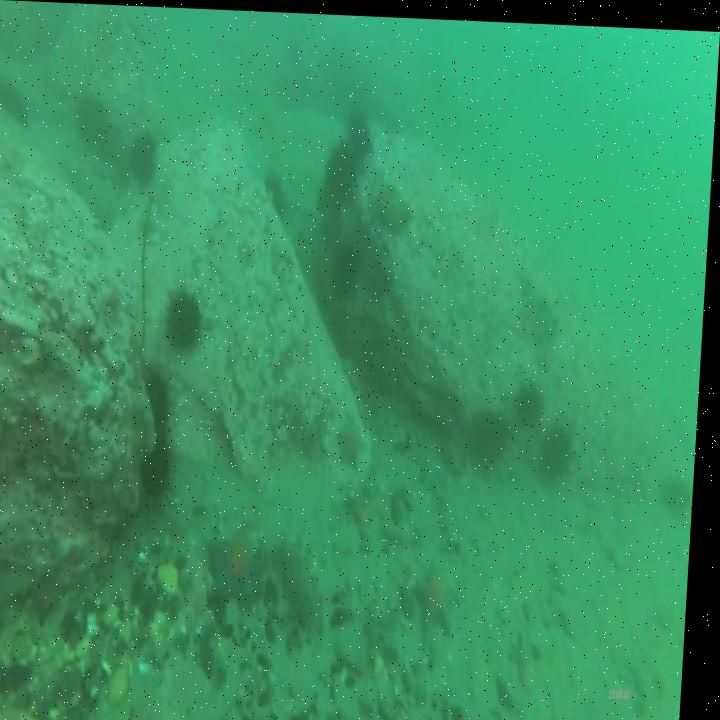echinus: (141, 429, 186, 517), (466, 398, 516, 474), (163, 278, 211, 356), (535, 412, 582, 485), (321, 131, 364, 209), (144, 361, 182, 439), (329, 232, 368, 307), (125, 120, 163, 194), (72, 88, 113, 155), (515, 367, 551, 429), (0, 73, 37, 131), (661, 463, 700, 514), (261, 166, 292, 222), (346, 103, 378, 156)
holothurian: (273, 533, 336, 638)
starfish: (206, 515, 281, 620), (417, 553, 468, 643), (415, 431, 459, 493), (335, 405, 373, 471)
